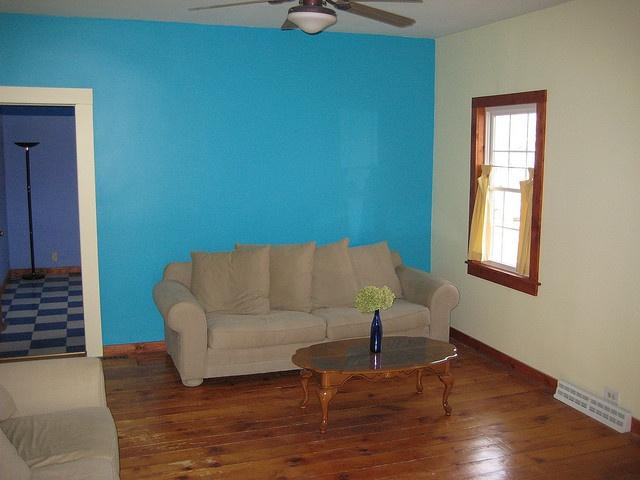Meja: (290, 335, 458, 436)
